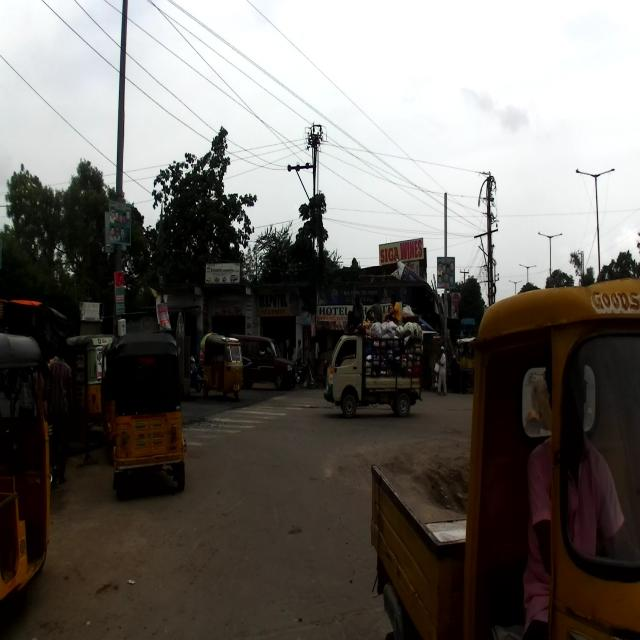autorickshaw: (370, 274, 638, 636), (0, 330, 55, 613), (110, 328, 186, 499), (64, 333, 117, 442)
car: (230, 333, 298, 391)
truck: (320, 314, 435, 426)
